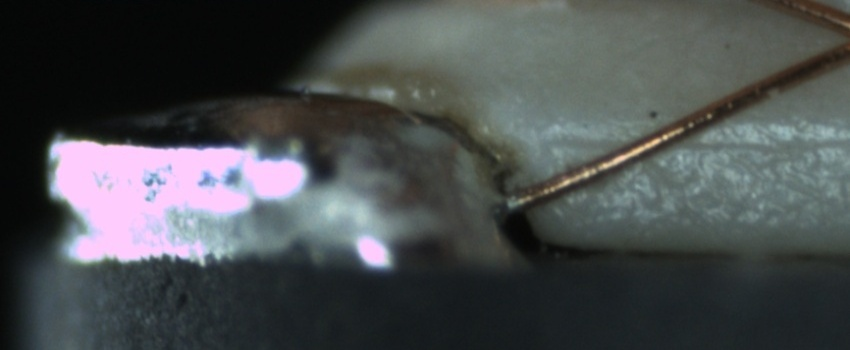CL: (826, 11, 850, 62)
DL: (546, 112, 843, 171)
